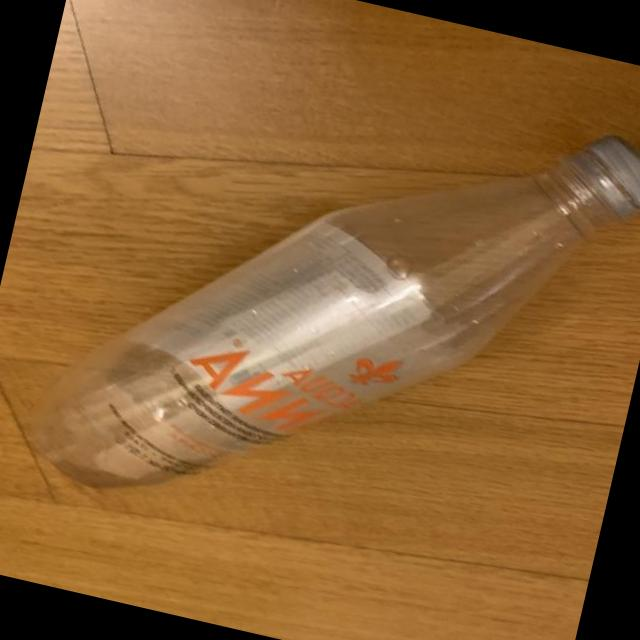plastic_bottle: (20, 21, 640, 600)
